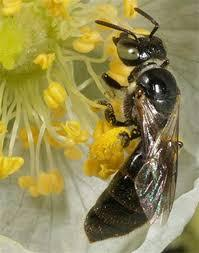Braunsapis: (75, 0, 188, 248)
